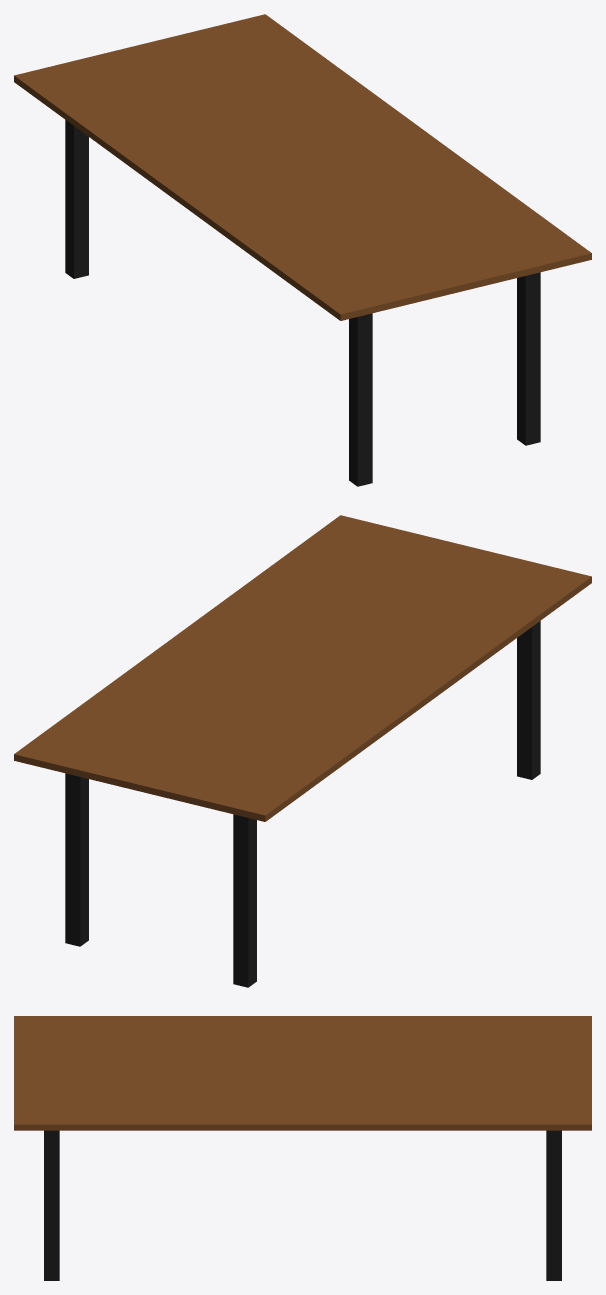
Rendered from tisch.fbx.
3 views of the same model, one above another, from view 1: azimuth 30°, elevation 25°; view 2: azimuth 150°, elevation 25°; view 3: azimuth 270°, elevation 25° (orthographic). The views are drawn at different scales.
Visible parts, largest first — view 1: Cube; view 2: Cube; view 3: Cube.
Part boxes in pixels (bbox=[...]): Cube: bbox=[14, 14, 591, 486]; Cube: bbox=[14, 515, 591, 987]; Cube: bbox=[14, 1016, 591, 1280].
Bounding box in the file's own units: 80 × 58.71 × 180.
